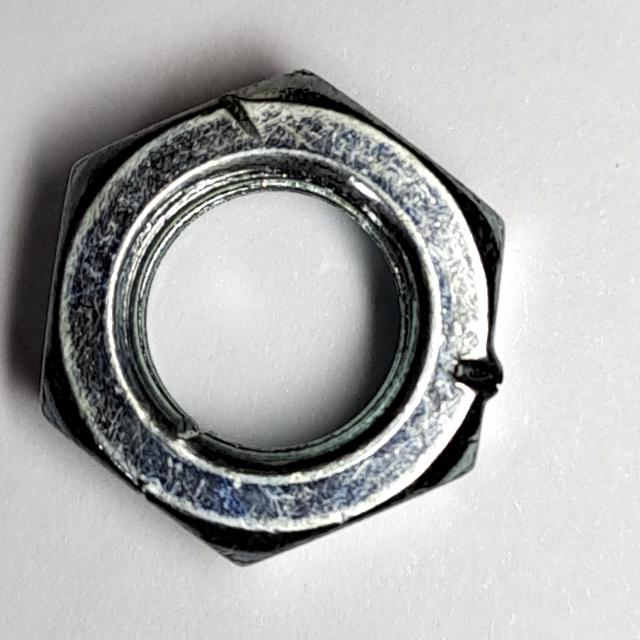Scratches: (32, 55, 524, 584)
